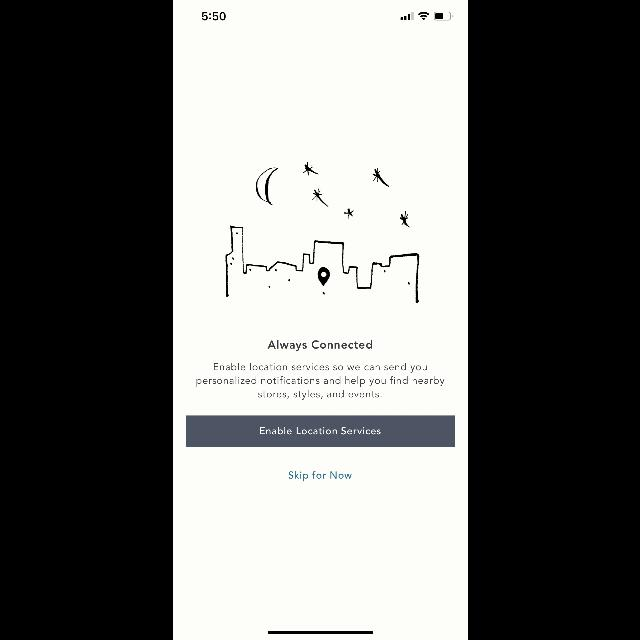image: (225, 161, 420, 303)
text: (196, 362, 444, 400), (267, 341, 371, 352), (288, 471, 352, 481)
textbutton: (185, 416, 455, 446)
uppertaskbar: (202, 12, 452, 20)
